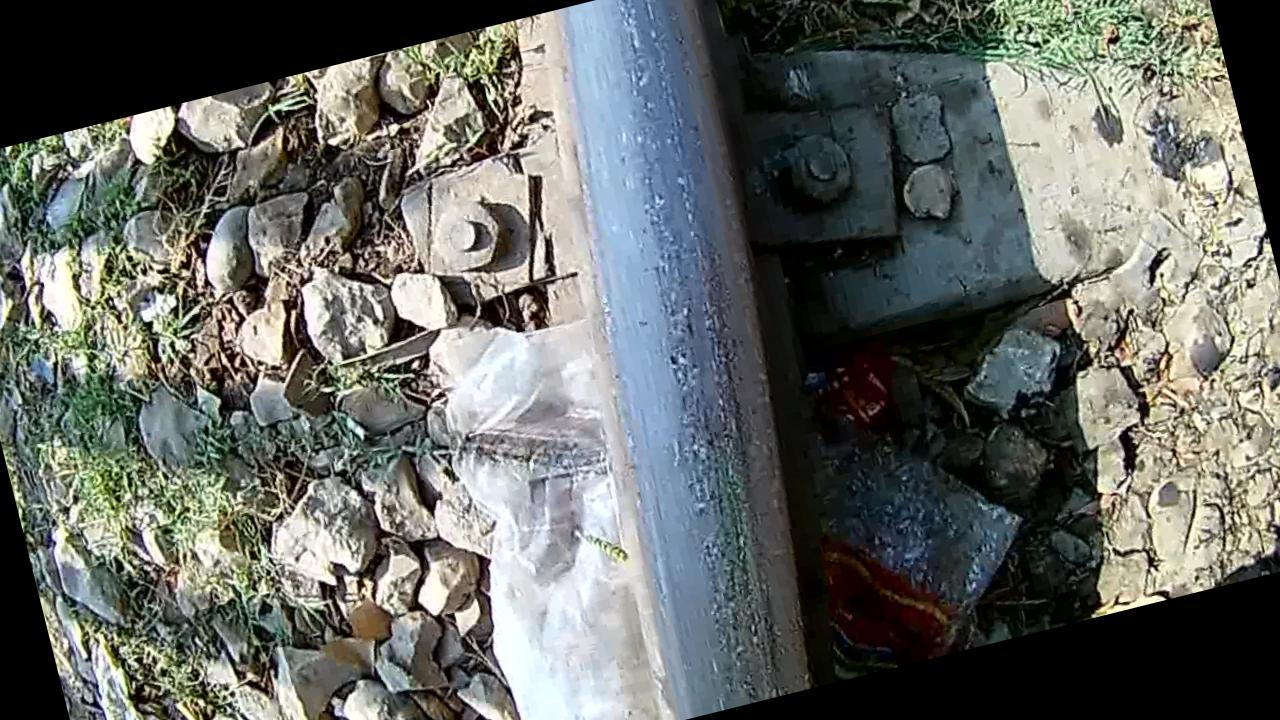clip_missing: (544, 0, 843, 709)
